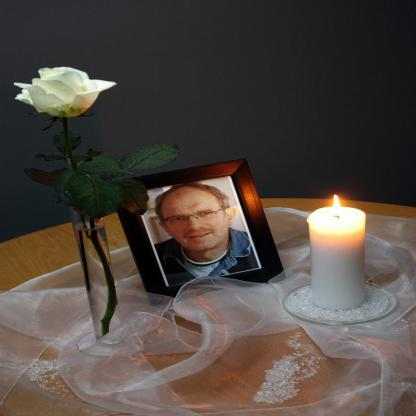vase: (74, 196, 145, 354)
